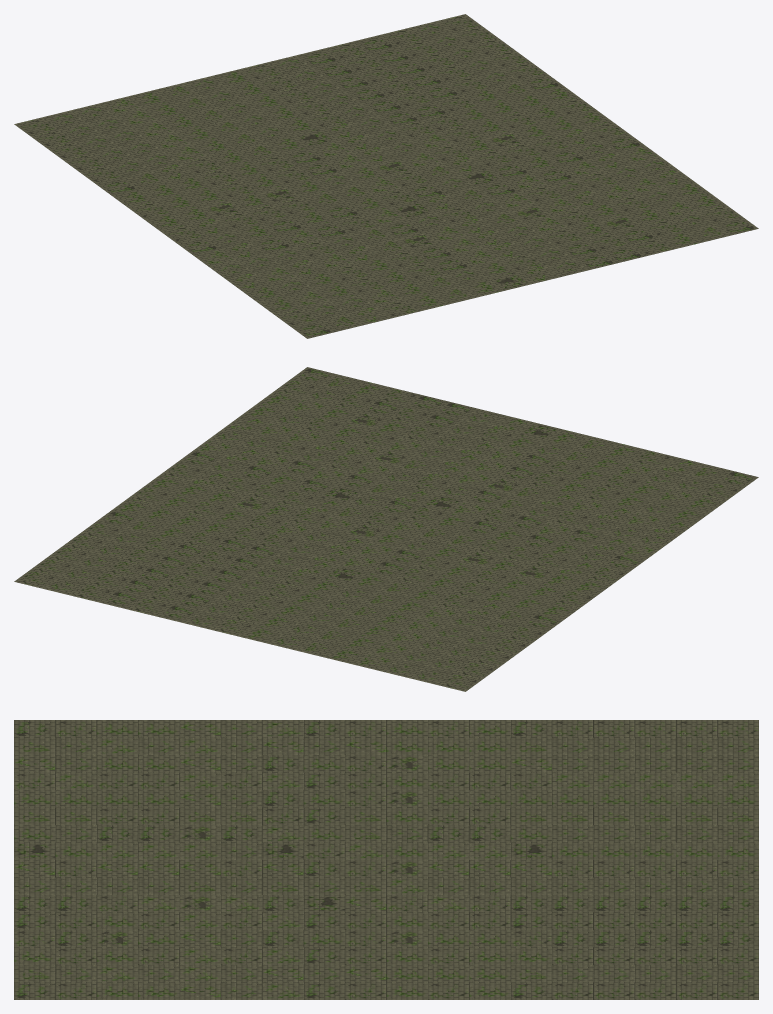
File: map002_ground.FBX
The picture shows the model from 3 angles, top to bottom: view 1: azimuth 30°, elevation 25°; view 2: azimuth 150°, elevation 25°; view 3: azimuth 270°, elevation 25°; orthographic projection. The views are drawn at different scales.
Visible parts, largest first — view 1: 007; view 2: 007; view 3: 007.
Boxes of the visible parts, x1,y1,x2,y2 form: 007: (14, 14, 758, 338); 007: (14, 367, 758, 691); 007: (14, 720, 758, 999).
Bounding box in the file's own units: 38.4 × 1.22e-14 × 43.2.
